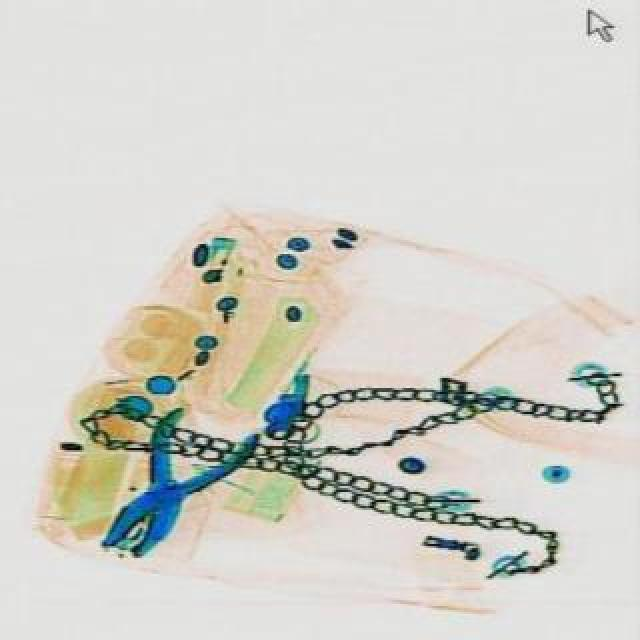wrench: (76, 388, 260, 580)
